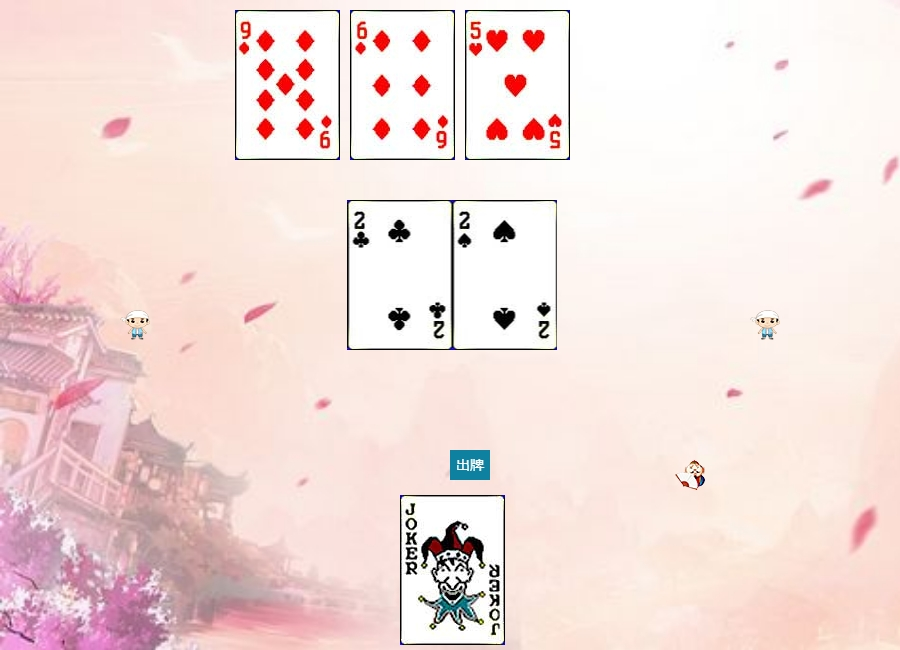15~2: (348, 200, 453, 350)
15~4: (453, 200, 558, 350)
17~3: (400, 495, 505, 645)
5~3: (465, 10, 570, 160)
6~1: (350, 10, 455, 160)
9~1: (235, 10, 340, 160)
